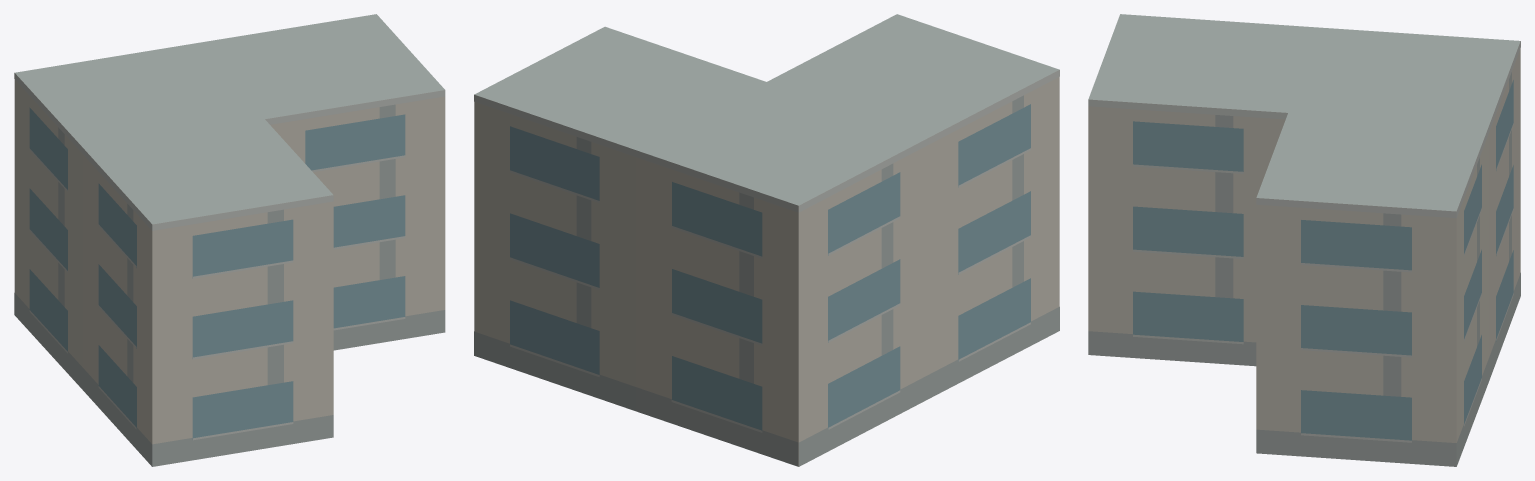
File: residential-19e8d21a-2846-49bb-8787-1d8538c8cadd.glb
The picture shows the model from 3 angles, left to right: view 1: azimuth 30°, elevation 25°; view 2: azimuth 150°, elevation 25°; view 3: azimuth 270°, elevation 25°; orthographic projection. The views are drawn at different scales.
Visible parts, largest first — view 1: residential-19e8d21a-2846-49bb-8787-1d8538c8cadd.tmp; view 2: residential-19e8d21a-2846-49bb-8787-1d8538c8cadd.tmp; view 3: residential-19e8d21a-2846-49bb-8787-1d8538c8cadd.tmp.
Part boxes in pixels (x1=…): residential-19e8d21a-2846-49bb-8787-1d8538c8cadd.tmp: x1=14, y1=14, x2=445, y2=466; residential-19e8d21a-2846-49bb-8787-1d8538c8cadd.tmp: x1=474, y1=14, x2=1059, y2=466; residential-19e8d21a-2846-49bb-8787-1d8538c8cadd.tmp: x1=1088, y1=14, x2=1520, y2=466.
Size of the model in its own units: 15.18 by 9.15 by 14.05.
